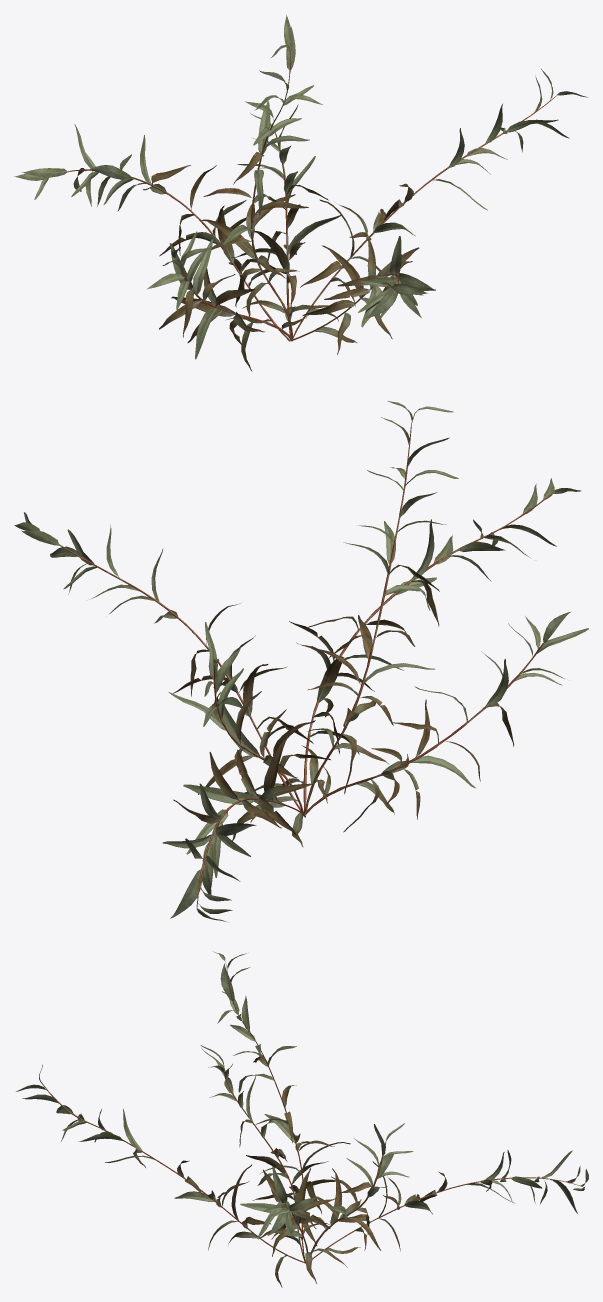
Rendered from shrub_02_1k.gltf.
The picture shows the model from 3 angles, top to bottom: view 1: azimuth 30°, elevation 25°; view 2: azimuth 150°, elevation 25°; view 3: azimuth 270°, elevation 25°; orthographic projection. The views are drawn at different scales.
Visible parts, largest first — view 1: shrub_02_c; view 2: shrub_02_c; view 3: shrub_02_c.
Boxes of the visible parts, bbox=[...] form: shrub_02_c: bbox=[14, 15, 588, 371]; shrub_02_c: bbox=[14, 401, 588, 922]; shrub_02_c: bbox=[16, 951, 588, 1287].
Size of the model in its own units: 1.77 by 1.31 by 2.29.
1 material, 1 textured.
